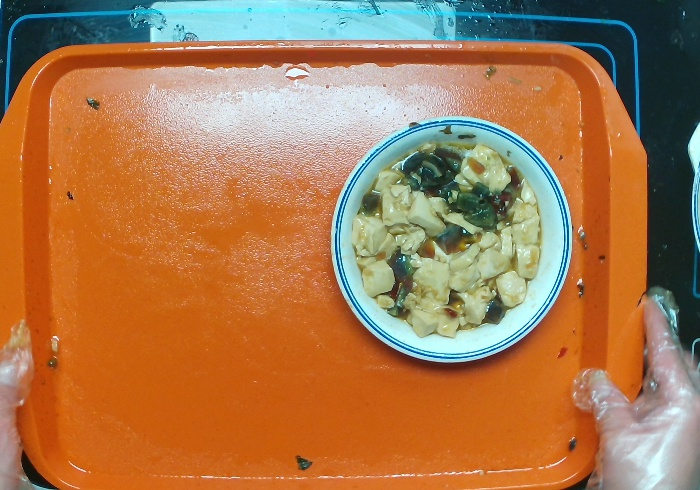HZYJPL-Lan_Bian_Yuan_Die: (316, 107, 577, 377)
